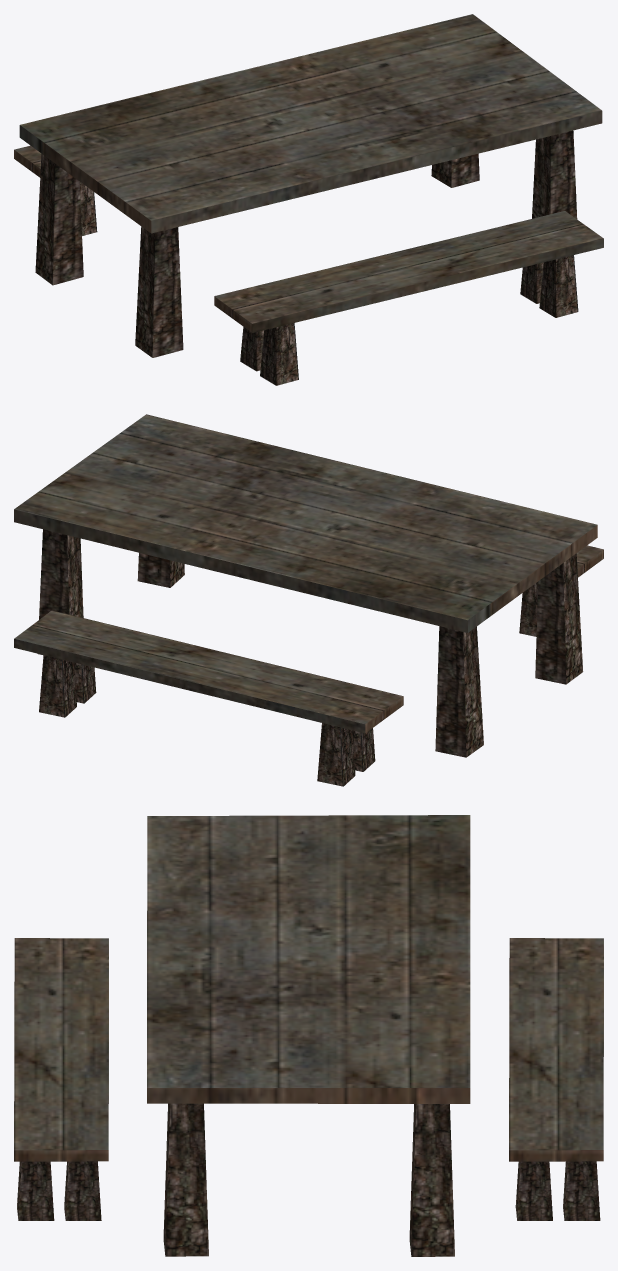
File: d_sg_shouyou_zhuozi03_qt.FBX
3 views of the same model, one above another, from view 1: azimuth 30°, elevation 25°; view 2: azimuth 150°, elevation 25°; view 3: azimuth 270°, elevation 25° (orthographic). The views are drawn at different scales.
Parts seen in each view (by area): view 1: d_sg_shouyou_zhuzi01_qt; view 2: d_sg_shouyou_zhuzi01_qt; view 3: d_sg_shouyou_zhuzi01_qt.
Boxes of the visible parts, x1,y1,x2,y2 form: d_sg_shouyou_zhuzi01_qt: (14,14,603,385); d_sg_shouyou_zhuzi01_qt: (14,414,603,786); d_sg_shouyou_zhuzi01_qt: (14,815,603,1256).
Size of the model in its own units: 3.47 by 1.06 by 3.16.
